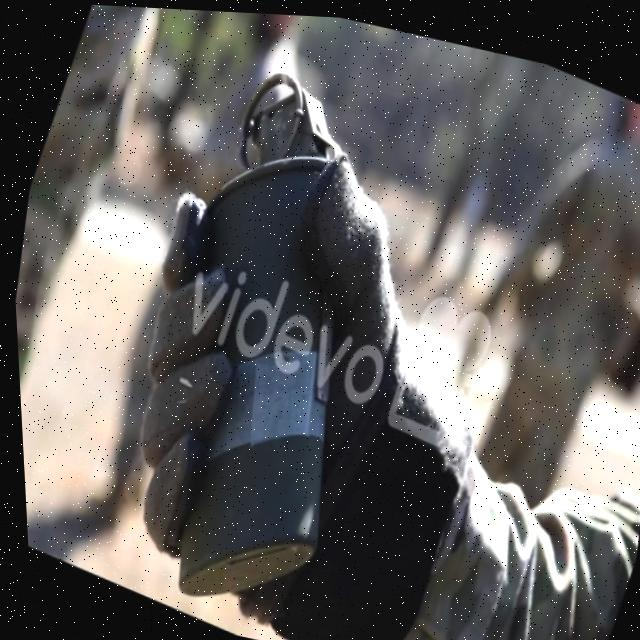grenade: (50, 31, 479, 640)
